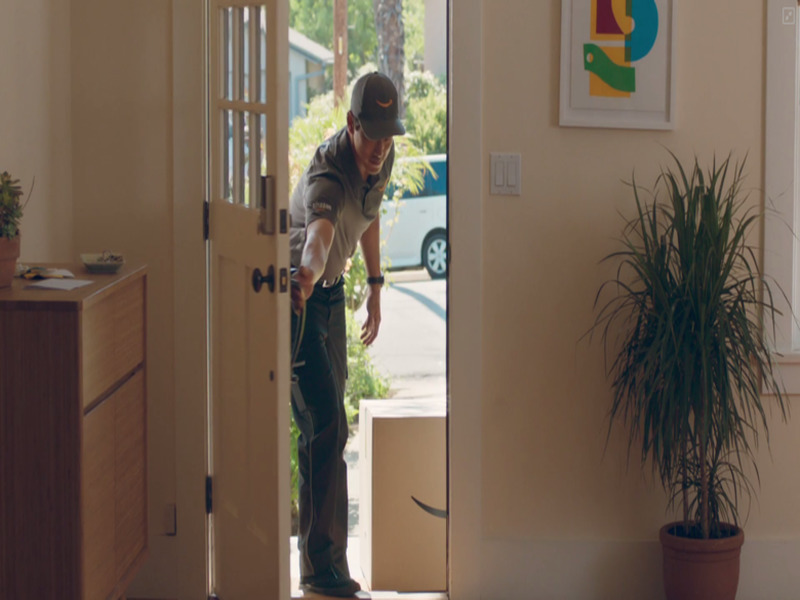package: (354, 392, 451, 590)
